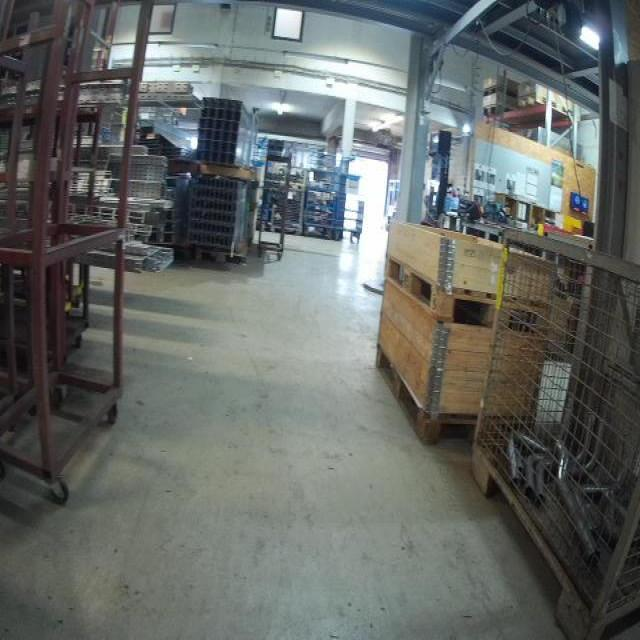pallet: (371, 345, 537, 446), (381, 252, 550, 335), (482, 85, 517, 98), (514, 97, 559, 107), (480, 103, 509, 117)
pallet_truck: (422, 124, 460, 227)
stillage: (463, 217, 639, 636), (265, 182, 305, 235)
